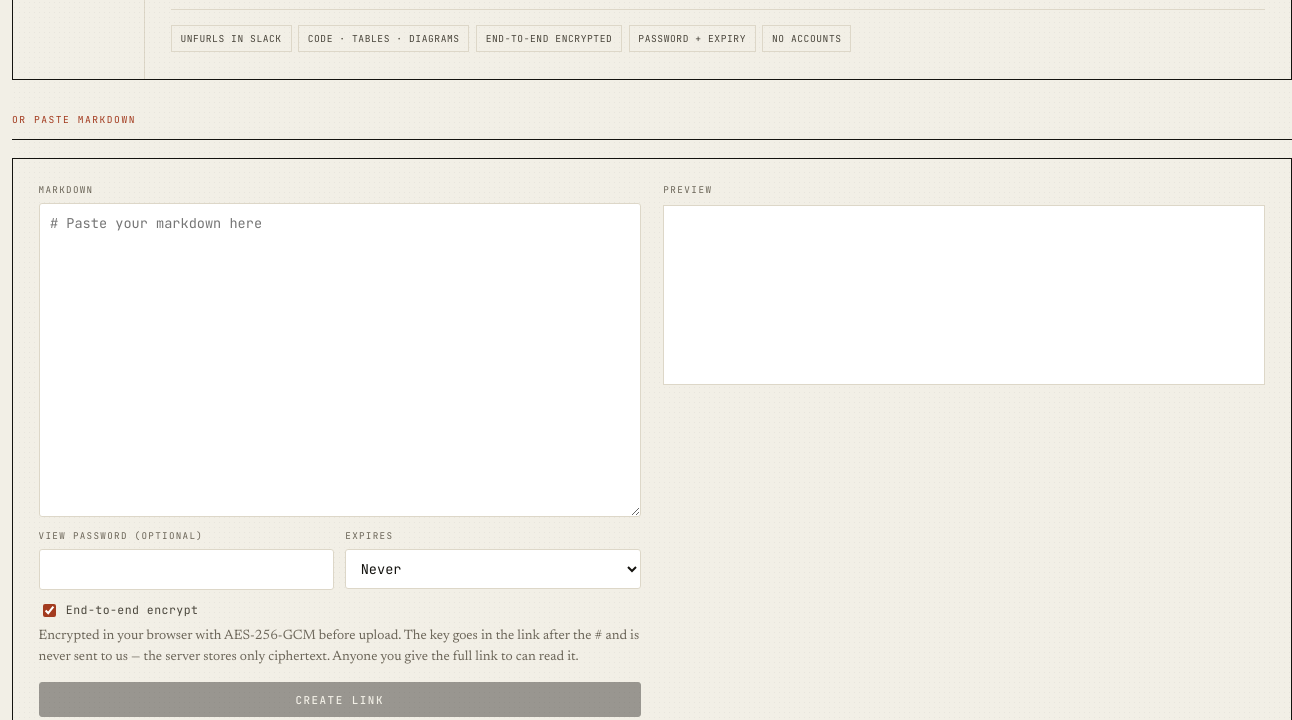
Test: creates a share and shows the link and manage token once
The image size is (1292, 720).
(page scrolled)
In the text box labelled "Markdown": (340, 360) [39,203,641,518], type "# Hello"
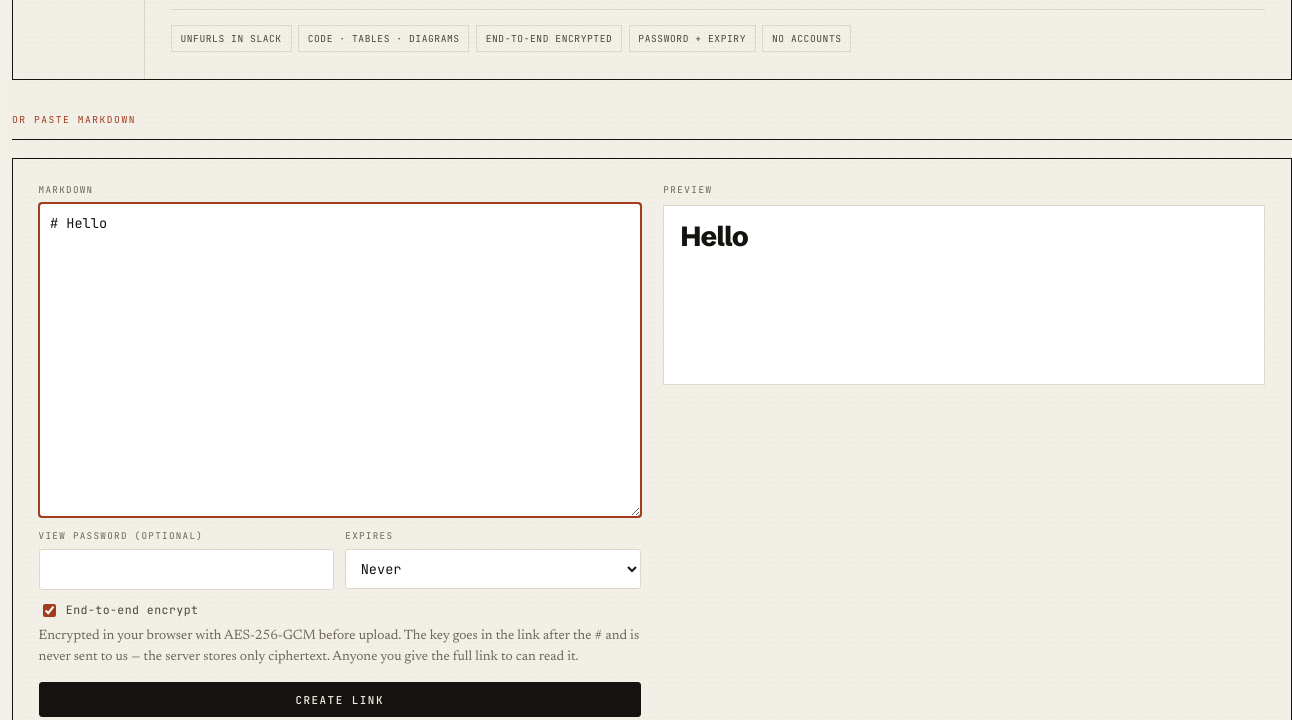
Click the checkbox labelled "End-to-end encrypt": (49, 610) [43,604,56,617]
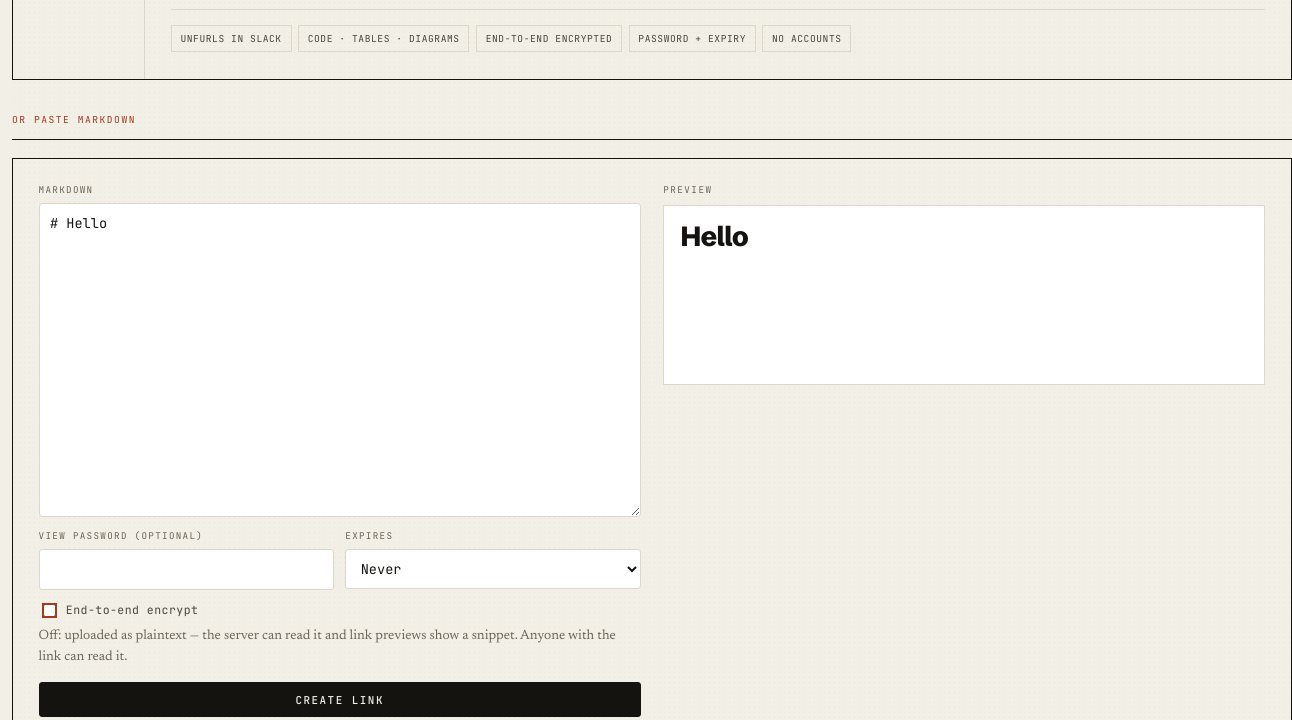
Click the button "Create link": (340, 700) [39,682,641,717]
(page scrolled)
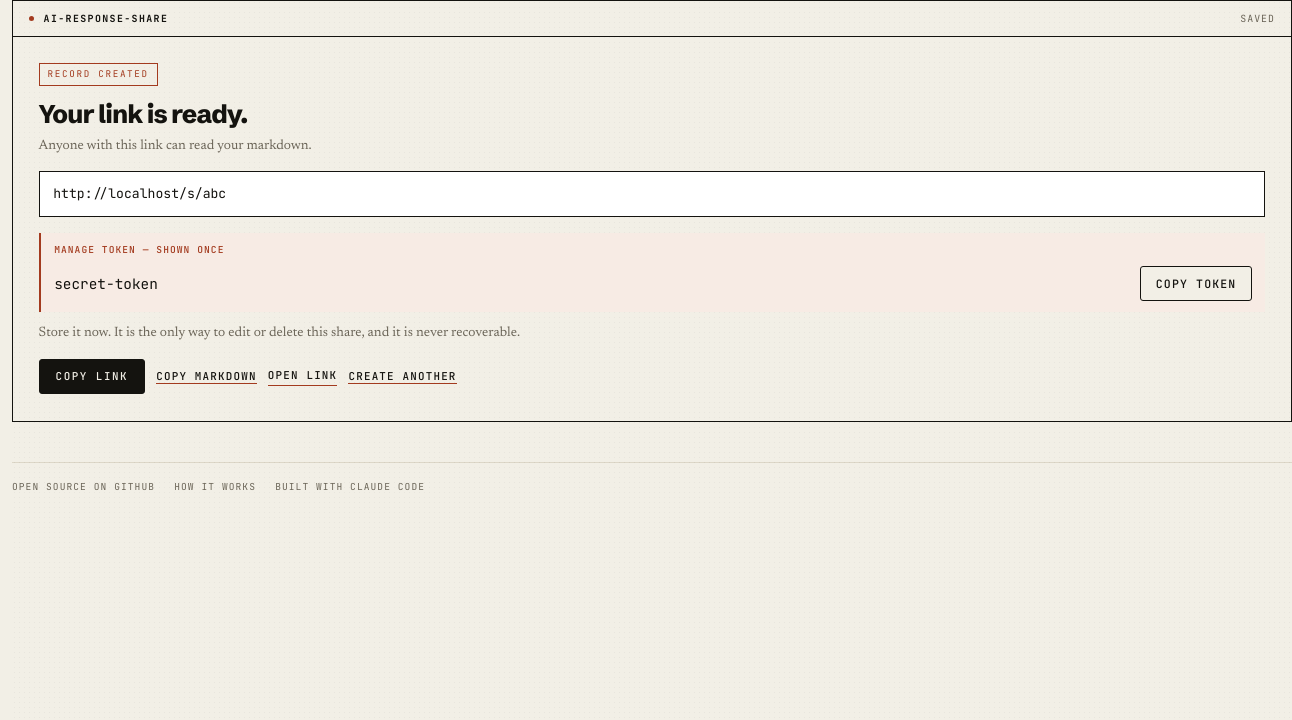
Expected: the link "http://localhost/s/abc" is shown, [39,171,1265,217]
Expected: the text "secret-token" is shown, [54,274,158,293]
